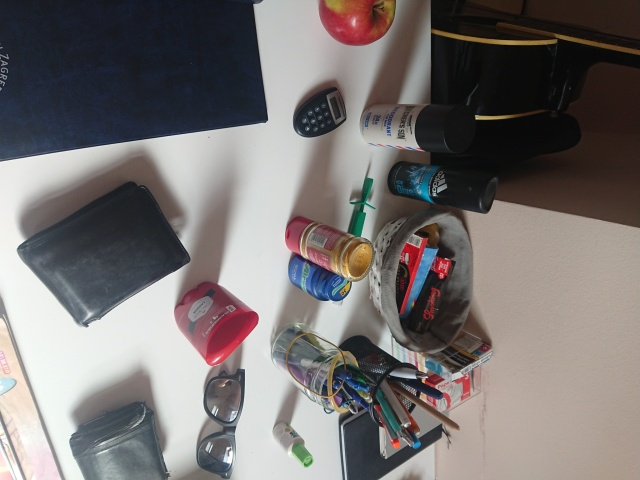Kotanyi Curry Spices Mix 70g: (282, 214, 377, 284)
